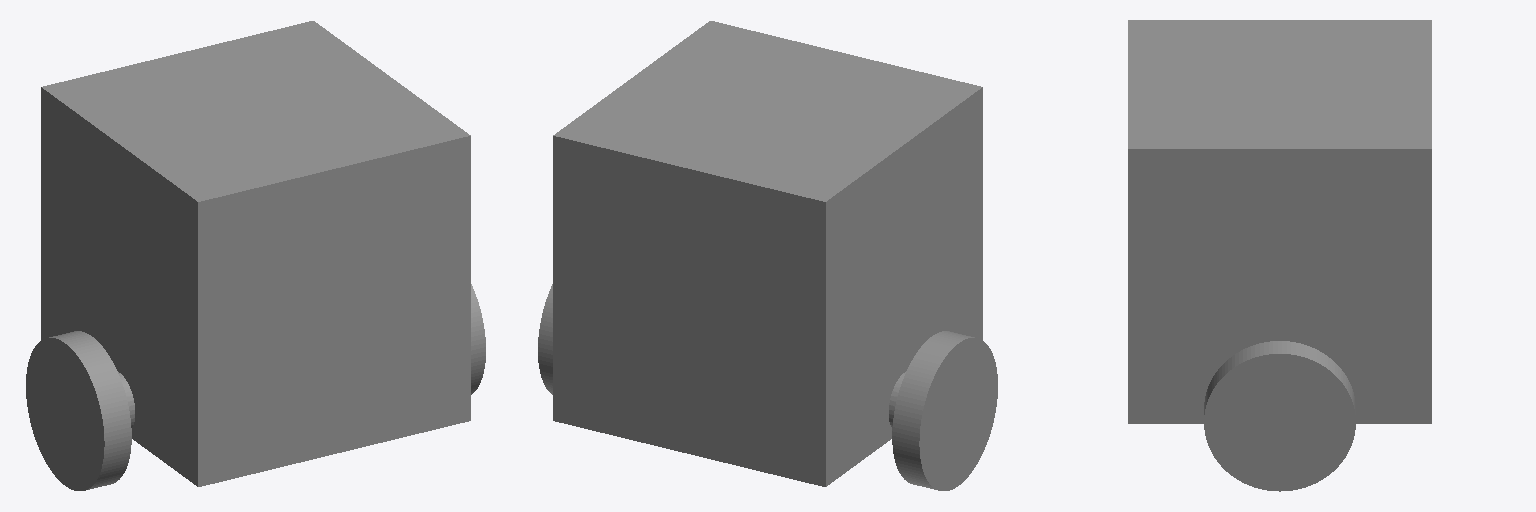
The robot description file, URDF, robot "urdf_sample":
<?xml version="1.0" ?>
<robot name="urdf_sample" xmlns:xacro="http://www.ros.org/wiki/xacro">
  <link name="base_link">
    <inertial>
      <origin xyz="0.0 0.0 0.024875120932642453" rpy="0 0 0"/>
      <mass value="0.9874153755826697"/>
      <inertia ixx="0.000411" iyy="0.000416" izz="0.000414" ixy="0.0" iyz="0.0" ixz="0.0"/>
    </inertial>
    <visual>
      <origin xyz="0 0 0" rpy="0 0 0"/>
      <geometry>
        <mesh filename="../meshes/base_link.stl" scale="0.001 0.001 0.001"/>
      </geometry>
      <material name="steel_satin"/>
    </visual>
    <collision>
      <origin xyz="0 0 0" rpy="0 0 0"/>
      <geometry>
        <mesh filename="../meshes/base_link.stl" scale="0.001 0.001 0.001"/>
      </geometry>
    </collision>
  </link>

  <link name="wheelB_1">
    <inertial>
      <origin xyz="0.0025000000000000022 7.237528875152536e-18 7.450581991641503e-11" rpy="0 0 0"/>
      <mass value="0.01926679869584365"/>
      <inertia ixx="2e-06" iyy="1e-06" izz="1e-06" ixy="-0.0" iyz="0.0" ixz="-0.0"/>
    </inertial>
    <visual>
      <origin xyz="-0.03 0.0 -0.005" rpy="0 0 0"/>
      <geometry>
        <mesh filename="../meshes/wheelB_1.stl" scale="0.001 0.001 0.001"/>
      </geometry>
      <material name="steel_satin"/>
    </visual>
    <collision>
      <origin xyz="-0.03 0.0 -0.005" rpy="0 0 0"/>
      <geometry>
        <mesh filename="../meshes/wheelB_1.stl" scale="0.001 0.001 0.001"/>
      </geometry>
    </collision>
  </link>

  <link name="wheelA_1">
    <inertial>
      <origin xyz="-0.0025000000000000022 1.0856293312728804e-17 7.450581124279765e-11" rpy="0 0 0"/>
      <mass value="0.01926679869584365"/>
      <inertia ixx="2e-06" iyy="1e-06" izz="1e-06" ixy="-0.0" iyz="0.0" ixz="0.0"/>
    </inertial>
    <visual>
      <origin xyz="0.03 0.0 -0.005" rpy="0 0 0"/>
      <geometry>
        <mesh filename="../meshes/wheelA_1.stl" scale="0.001 0.001 0.001"/>
      </geometry>
      <material name="steel_satin"/>
    </visual>
    <collision>
      <origin xyz="0.03 0.0 -0.005" rpy="0 0 0"/>
      <geometry>
        <mesh filename="../meshes/wheelA_1.stl" scale="0.001 0.001 0.001"/>
      </geometry>
    </collision>
  </link>

  <joint name="rev1" type="continuous">
    <origin xyz="0.03 0.0 0.005" rpy="0 0 0"/>
    <parent link="base_link"/>
    <child link="wheelB_1"/>
    <axis xyz="1.0 0.0 -0.0"/>
  </joint>

  <transmission name="rev1_tran">
    <type>transmission_interface/SimpleTransmission</type>
    <joint name="rev1">
      <hardwareInterface>hardware_interface/EffortJointInterface</hardwareInterface>
    </joint>
    <actuator name="rev1_actr">
      <hardwareInterface>hardware_interface/EffortJointInterface</hardwareInterface>
      <mechanicalReduction>1</mechanicalReduction>
    </actuator>
  </transmission>

  <joint name="rev2" type="continuous">
    <origin xyz="-0.03 0.0 0.005" rpy="0 0 0"/>
    <parent link="base_link"/>
    <child link="wheelA_1"/>
    <axis xyz="-1.0 0.0 -0.0"/>
  </joint>

  <transmission name="rev2_tran">
    <type>transmission_interface/SimpleTransmission</type>
    <joint name="rev2">
      <hardwareInterface>hardware_interface/EffortJointInterface</hardwareInterface>
    </joint>
    <actuator name="rev2_actr">
      <hardwareInterface>hardware_interface/EffortJointInterface</hardwareInterface>
      <mechanicalReduction>1</mechanicalReduction>
    </actuator>
  </transmission>

  <material name="silver_default">
    <color rgba="0.700 0.700 0.700 1.000"/>
  </material>
  <material name="steel_satin">
    <color rgba="0.6274509803921569 0.6274509803921569 0.6274509803921569 1.0"/>
  </material>

</robot>

--- Render facts (derived) ---
The picture shows the robot from 3 angles, left to right: view 1: azimuth 30°, elevation 25°; view 2: azimuth 150°, elevation 25°; view 3: azimuth 270°, elevation 25°; orthographic projection.
Robot: urdf_sample — 3 links, 2 joints (2 continuous); root link base_link; default pose: all joints at 0.
Links seen in each view (by area): view 1: base_link, wheelA_1, wheelB_1; view 2: base_link, wheelA_1, wheelB_1; view 3: base_link, wheelB_1.
Boxes of the visible links, x1,y1,x2,y2 form: base_link: (41,21,470,486); wheelA_1: (26,331,131,490); wheelB_1: (471,284,485,394); base_link: (553,21,982,486); wheelA_1: (892,331,997,490); wheelB_1: (538,284,552,394); base_link: (1128,20,1431,423); wheelB_1: (1204,341,1355,491).
Size in the robot's own frame: 0.07 by 0.05 by 0.0575 metres.
Meshes: 3 distinct files referenced, 3 mesh visuals loaded (3 binary STL).